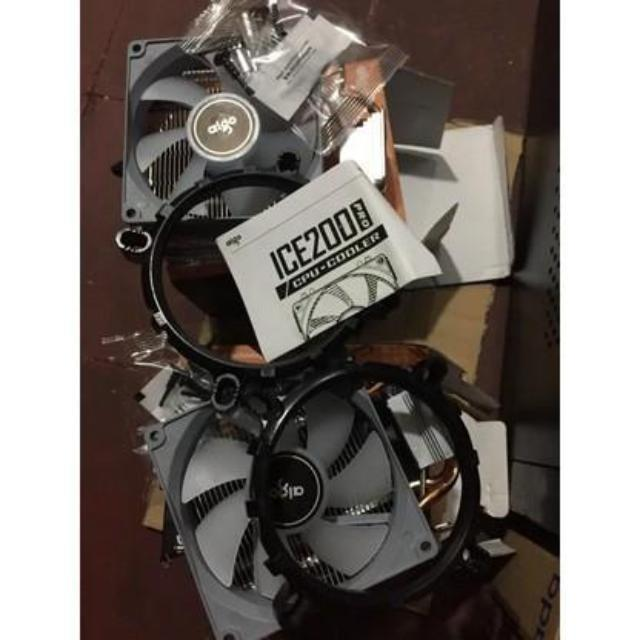CPU_Fan: (138, 363, 467, 640), (103, 15, 340, 256)
